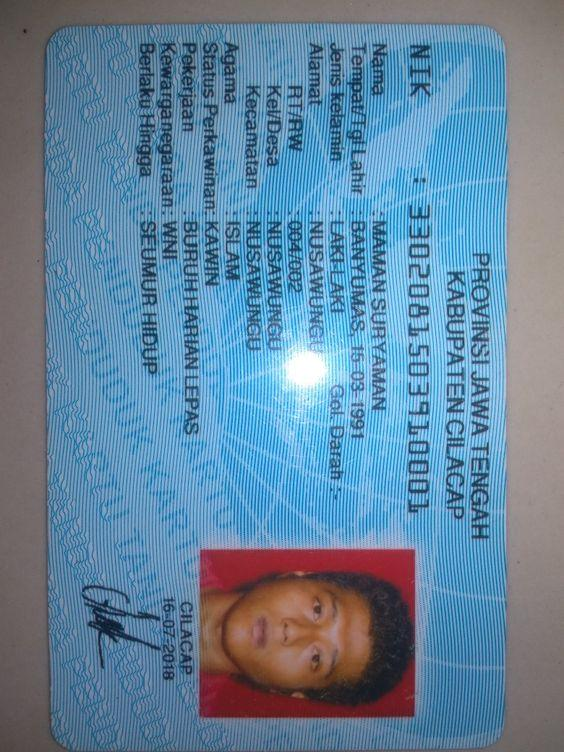ID-card: (44, 26, 504, 737)
